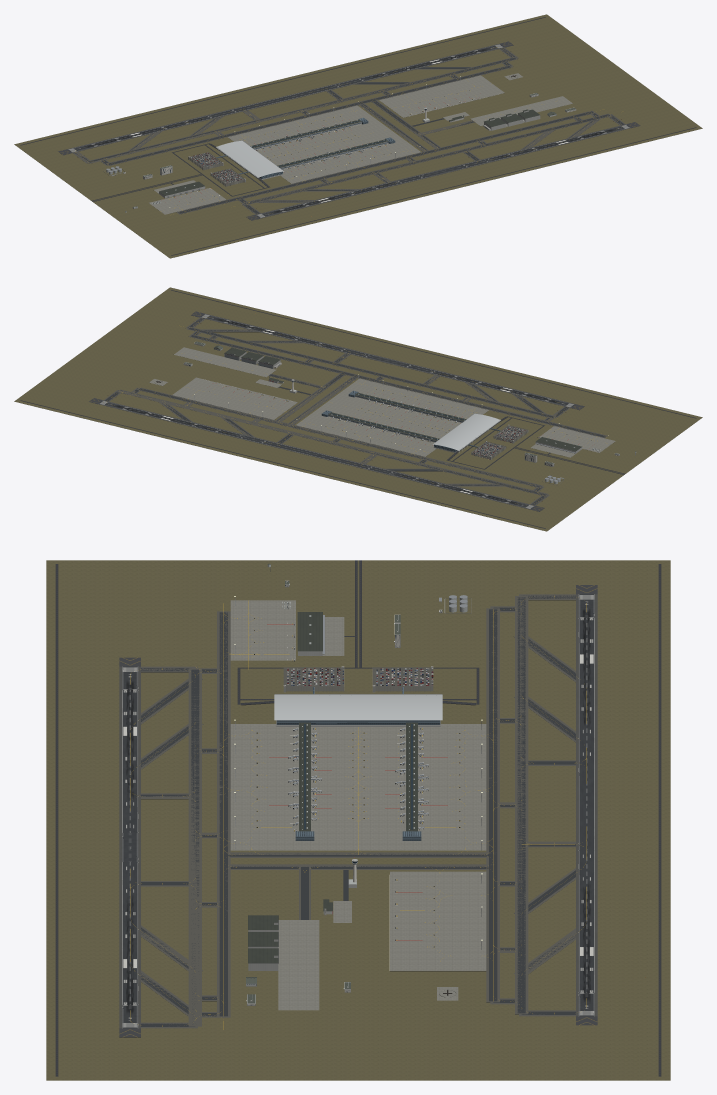
File: international_airport_-_fictional_civil_airport.glb
3 views of the same model, one above another, from view 1: azimuth 30°, elevation 25°; view 2: azimuth 150°, elevation 25°; view 3: azimuth 270°, elevation 25° (orthographic). The views are drawn at different scales.
Visible parts, largest first — view 1: deck_2, apron_17, apron_remote_18, shoulder_taxiway_A_23, shoulder_taxiway_C_27, shoulder_taxiway_D_29, terminal_roof_164, shoulder_taxiway_B_25, taxiway_D_28, taxiway_B_24, apron_cargo_19, taxiway_A_22 (+11 smaller); view 2: deck_2, apron_17, apron_remote_18, shoulder_taxiway_A_23, shoulder_taxiway_B_25, shoulder_taxiway_D_29, terminal_roof_164, taxiway_D_28, shoulder_taxiway_C_27, apron_maintenance_20, apron_cargo_19, taxiway_C_26 (+10 smaller); view 3: deck_2, apron_17, apron_remote_18, shoulder_taxiway_A_23, terminal_roof_164, shoulder_taxiway_C_27, apron_cargo_19, apron_maintenance_20, taxiway_D_28, taxiway_B_24, taxiway_A_22, runway_1_tdz_b_6 (+17 smaller).
Part boxes in pixels (x1,y1,x2,y2): deck_2: (14, 14, 702, 258); apron_17: (228, 105, 420, 183); apron_remote_18: (379, 75, 504, 117); shoulder_taxiway_A_23: (86, 57, 517, 163); shoulder_taxiway_C_27: (242, 113, 611, 205); shoulder_taxiway_D_29: (176, 110, 595, 214); terminal_roof_164: (216, 140, 283, 177); shoulder_taxiway_B_25: (106, 65, 512, 165); taxiway_D_28: (178, 111, 593, 213); taxiway_B_24: (108, 66, 510, 165); apron_cargo_19: (149, 188, 226, 214); taxiway_A_22: (88, 57, 515, 162); deck_2: (14, 287, 702, 531); apron_17: (296, 378, 488, 456); apron_remote_18: (172, 377, 297, 419); shoulder_taxiway_A_23: (117, 389, 548, 496); shoulder_taxiway_B_25: (137, 387, 543, 488); shoulder_taxiway_D_29: (189, 334, 607, 438); terminal_roof_164: (433, 413, 500, 450); taxiway_D_28: (191, 335, 605, 437); shoulder_taxiway_C_27: (186, 327, 555, 418); apron_maintenance_20: (174, 347, 276, 377); apron_cargo_19: (538, 426, 615, 452); taxiway_C_26: (188, 327, 553, 417); deck_2: (46, 560, 670, 1080); apron_17: (230, 724, 486, 850); apron_remote_18: (390, 871, 486, 971); shoulder_taxiway_A_23: (515, 596, 528, 1014); terminal_roof_164: (274, 694, 442, 720); shoulder_taxiway_C_27: (188, 668, 201, 1026); apron_cargo_19: (230, 600, 295, 660); apron_maintenance_20: (278, 920, 319, 1010); taxiway_D_28: (219, 612, 227, 1016); taxiway_B_24: (489, 609, 497, 1001); taxiway_A_22: (517, 597, 525, 1013); runway_1_tdz_b_6: (576, 850, 597, 992).
Bounding box in the file's own units: 3450 × 87.8 × 1750.
73 materials, 47 textured.
